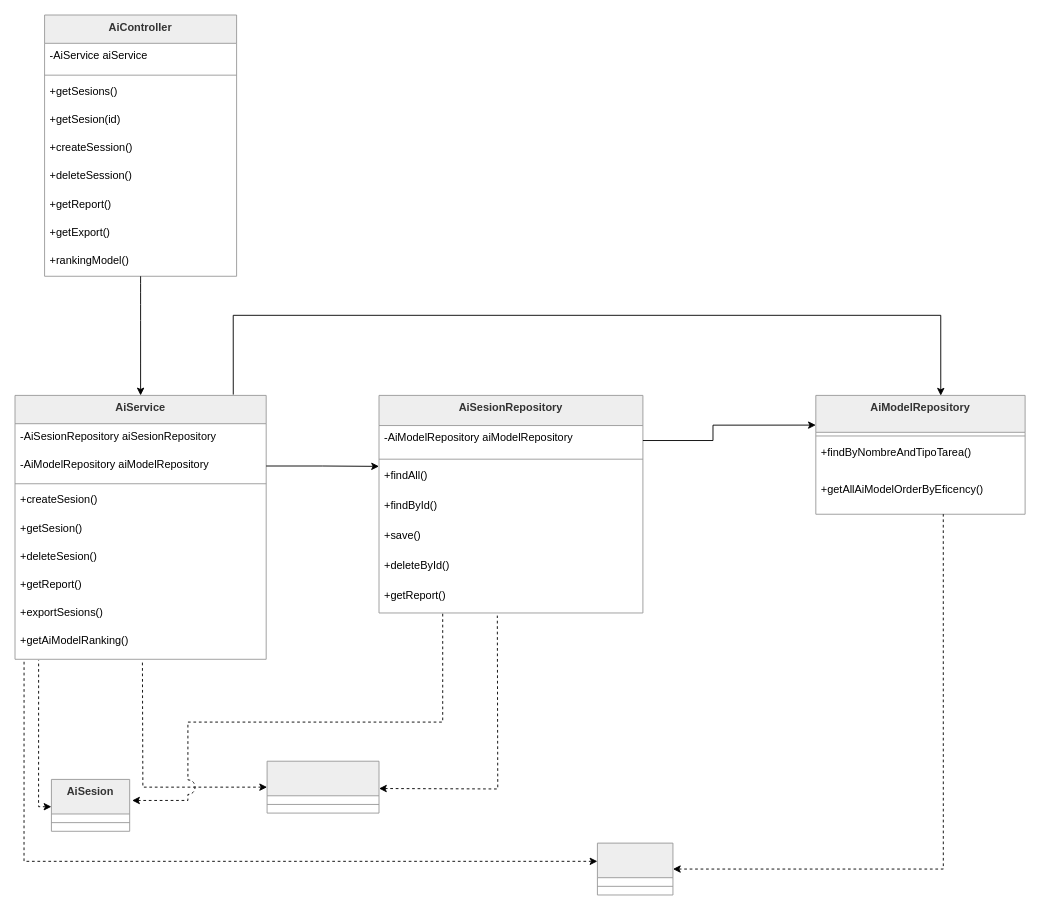
Image size: 1040x910. Some labels were removed from this diagram. The centre of each missing label's shape, as x and y in pixels:
AiModel: pixel 635 868
AiUserReport: pixel 322 786
